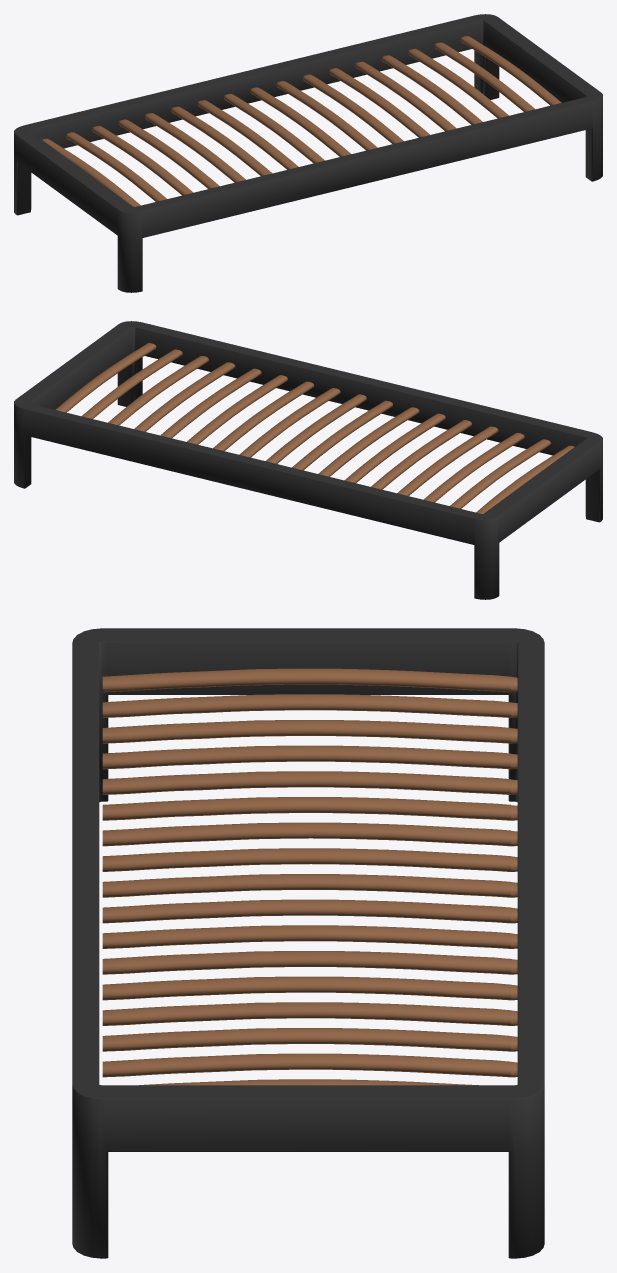
File: compressed_BedBase.glb
The picture shows the model from 3 angles, top to bottom: view 1: azimuth 30°, elevation 25°; view 2: azimuth 150°, elevation 25°; view 3: azimuth 270°, elevation 25°; orthographic projection. The views are drawn at different scales.
Visible parts, largest first — view 1: Cube, Cube.001; view 2: Cube, Cube.001; view 3: Cube.001, Cube.
Part boxes in pixels (x1=…): Cube: x1=14, y1=14, x2=602, y2=292; Cube.001: x1=42, y1=36, x2=561, y2=206; Cube: x1=14, y1=321, x2=602, y2=599; Cube.001: x1=55, y1=343, x2=574, y2=513; Cube.001: x1=102, y1=668, x2=517, y2=1085; Cube: x1=72, y1=628, x2=544, y2=1258.
Size of the model in its own units: 2.08 by 0.3302 by 0.8837.
